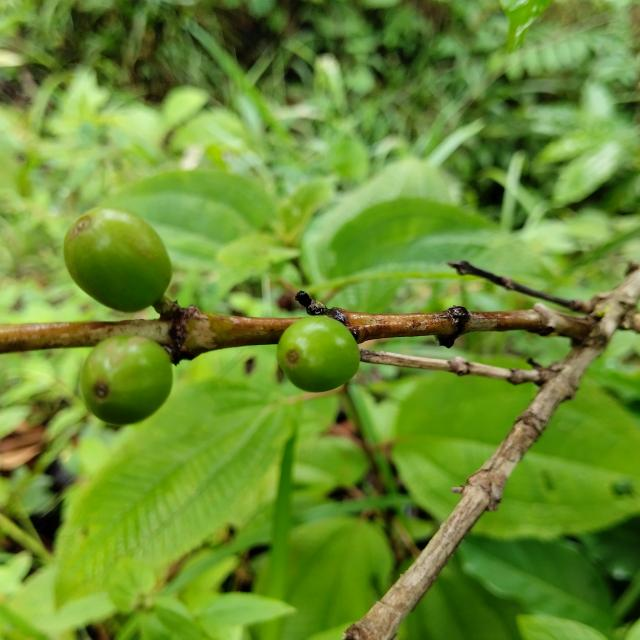green: (63, 207, 171, 312), (79, 335, 172, 425), (277, 316, 360, 393)
